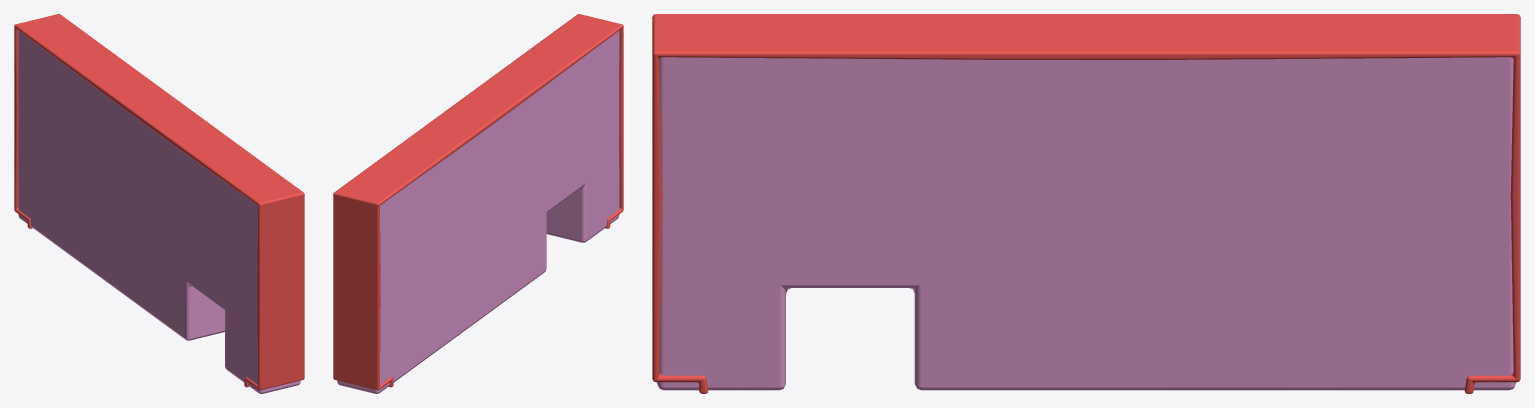
File: wall03.fbx
3 views of the same model, side by side, from view 1: azimuth 30°, elevation 25°; view 2: azimuth 150°, elevation 25°; view 3: azimuth 270°, elevation 25° (orthographic). The views are drawn at different scales.
Visible parts, largest first — view 1: png2, wallOutside.002; view 2: png2, wallOutside.002; view 3: png2, wallOutside.002.
Part boxes in pixels (x1,y1,x2,y2): png2: [18, 30, 300, 393]; wallOutside.002: [14, 14, 304, 390]; png2: [337, 30, 619, 393]; wallOutside.002: [333, 14, 623, 390]; png2: [657, 57, 1515, 390]; wallOutside.002: [652, 14, 1520, 393].
Size of the model in its own units: 218 by 878 by 2014.
